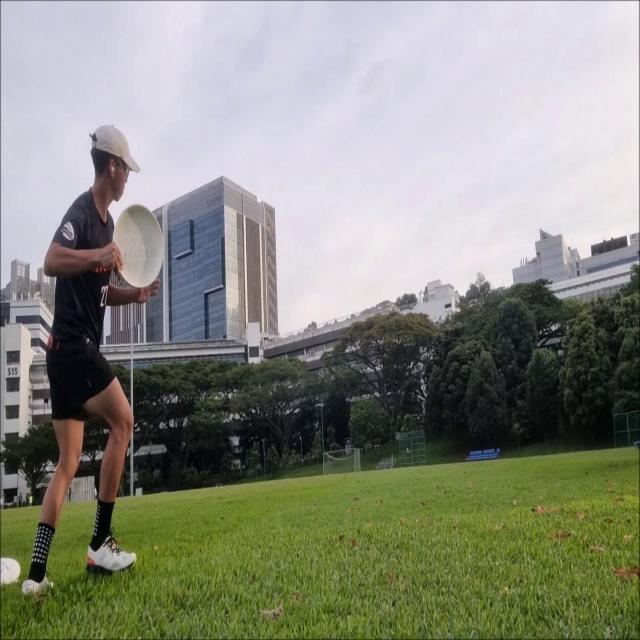disc: (111, 201, 165, 290)
